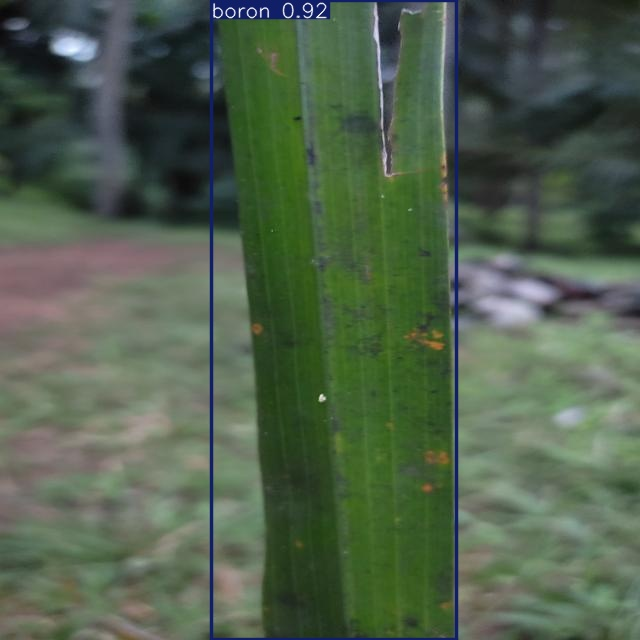nitrogen: (211, 0, 457, 640)
